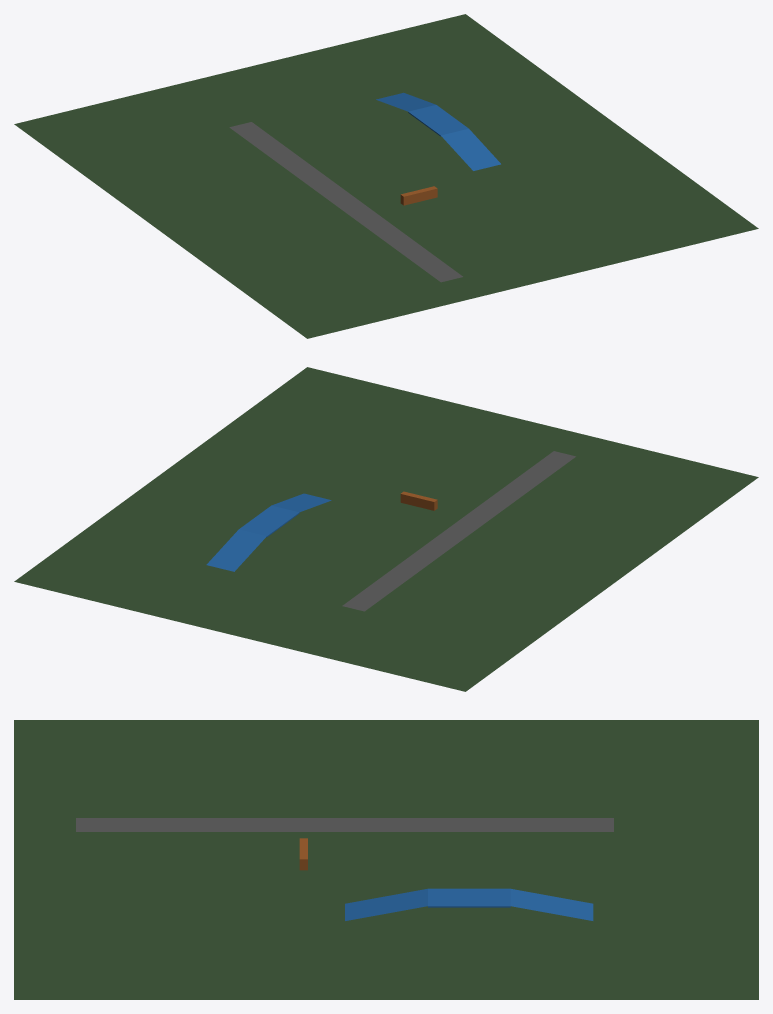
File: Course.gltf
The picture shows the model from 3 angles, top to bottom: view 1: azimuth 30°, elevation 25°; view 2: azimuth 150°, elevation 25°; view 3: azimuth 270°, elevation 25°; orthographic projection. The views are drawn at different scales.
Parts seen in each view (by area): view 1: CourseVisual; view 2: CourseVisual; view 3: CourseVisual.
Boxes of the visible parts, x1=… form: CourseVisual: x1=14, y1=14, x2=758, y2=338; CourseVisual: x1=14, y1=367, x2=758, y2=691; CourseVisual: x1=14, y1=720, x2=758, y2=999.
Size of what is drawn, in the model's own units: 160 by 4 by 180.
Materials: 4 (4 with a texture image).
